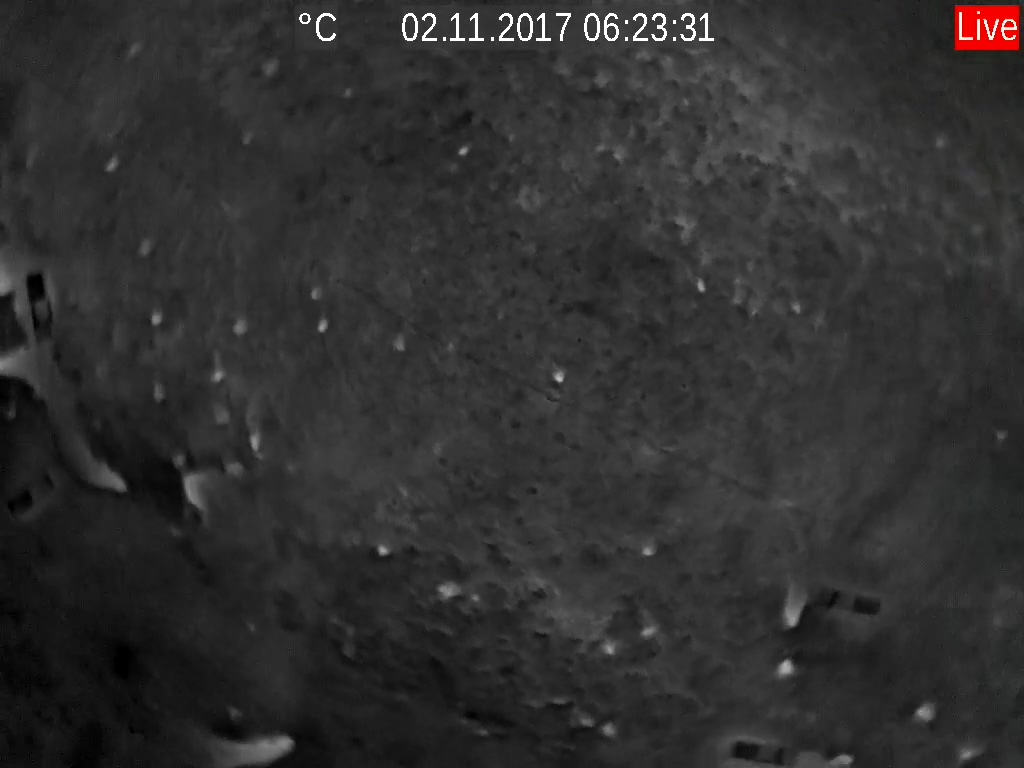warren: (207, 722, 301, 765), (779, 574, 811, 635)
